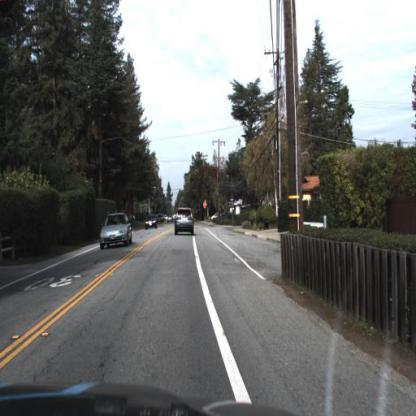car: (98, 209, 136, 253), (98, 206, 132, 250), (174, 206, 196, 240), (143, 213, 161, 234), (144, 214, 160, 232)
